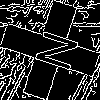N: (25, 25, 80, 74)
